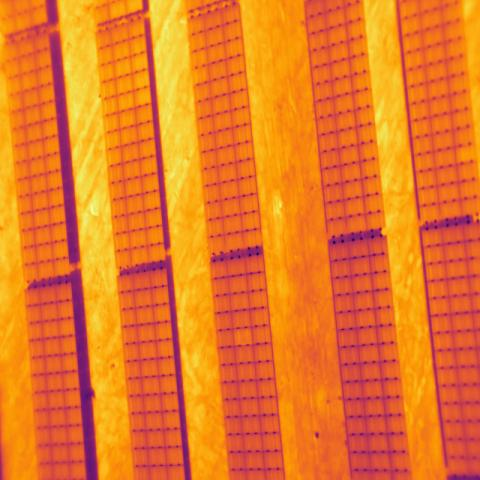fault: (456, 145, 476, 164)
